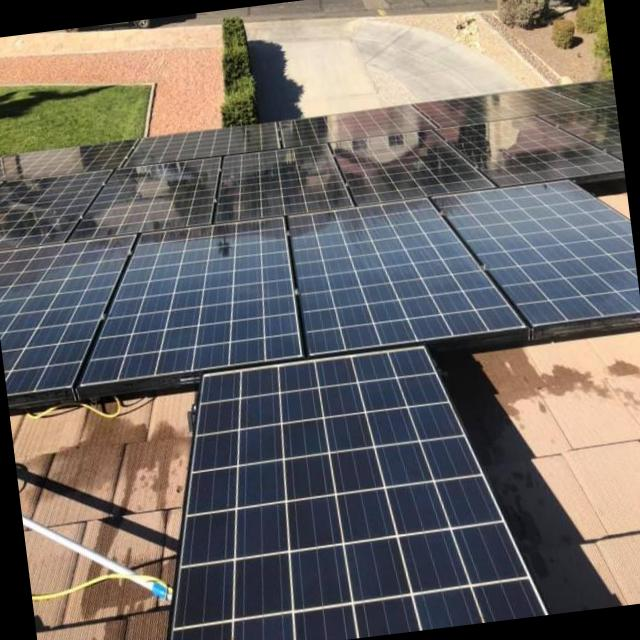no faulty: (169, 343, 544, 640), (285, 199, 518, 356), (79, 219, 297, 384), (428, 185, 637, 319), (0, 237, 125, 389), (331, 126, 491, 209), (76, 154, 214, 231), (442, 120, 609, 182), (217, 142, 344, 215), (0, 171, 92, 241)
